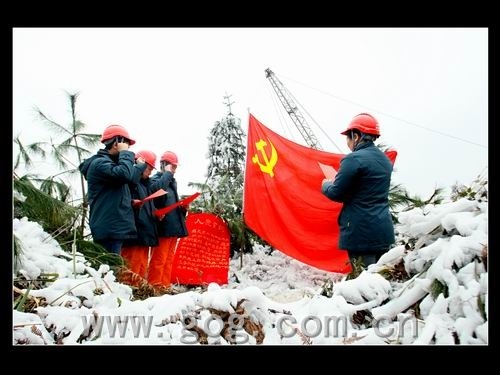red: (339, 112, 383, 150), (99, 124, 133, 157), (132, 149, 157, 179), (158, 149, 179, 175)
